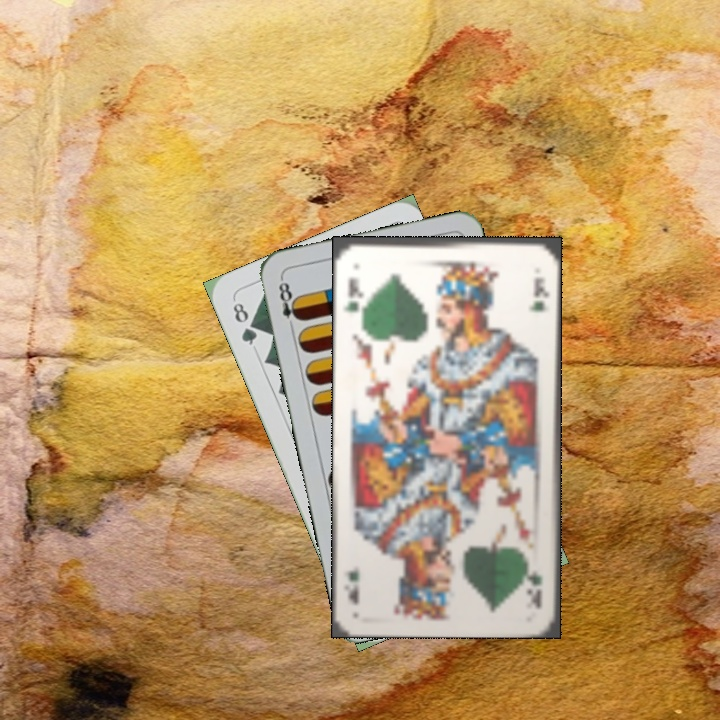E8: (274, 275, 303, 334)
G8: (228, 298, 260, 348)
GK: (340, 273, 367, 321), (525, 566, 546, 611)
